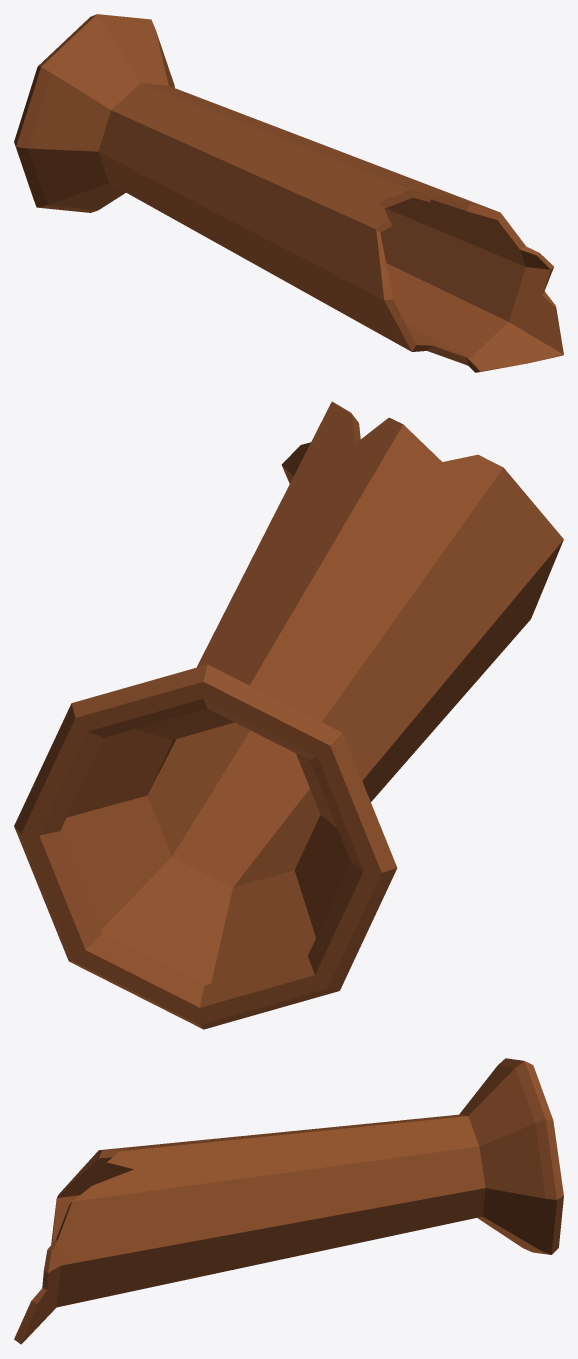
Rendered from Collin_BrokenVase_002_Piece_001.fbx.
3 renders of one model, top to bottom at view 1: azimuth 30°, elevation 25°; view 2: azimuth 150°, elevation 25°; view 3: azimuth 270°, elevation 25°, orthographic. The views are drawn at different scales.
Visible parts, largest first — view 1: Broken_Vase_004_BrokenPiece_001; view 2: Broken_Vase_004_BrokenPiece_001; view 3: Broken_Vase_004_BrokenPiece_001.
Boxes of the visible parts, left/top/right/bottom form: Broken_Vase_004_BrokenPiece_001: left=14, top=14, right=563, bottom=372; Broken_Vase_004_BrokenPiece_001: left=14, top=401, right=563, bottom=1029; Broken_Vase_004_BrokenPiece_001: left=14, top=1058, right=563, bottom=1344.
Size of the model in its own units: 20.1 by 12.85 by 33.2.
1 material, 1 textured.
